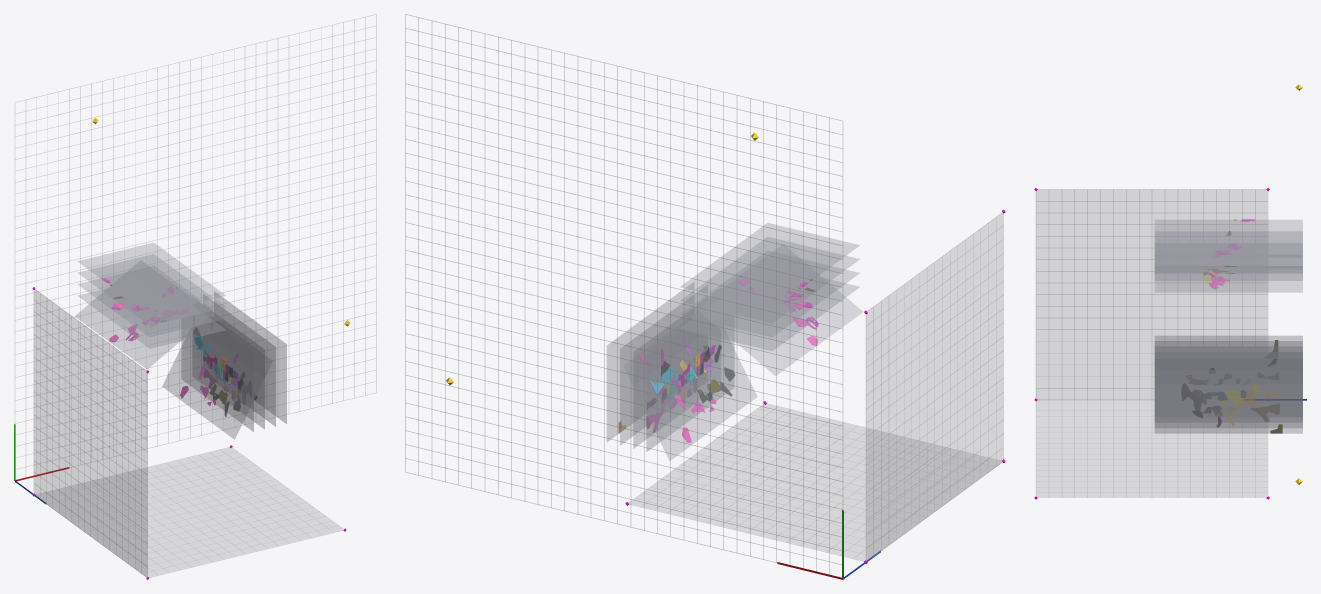
Rendered from shards.obj.
3 renders of one model, left to right at view 1: azimuth 30°, elevation 25°; view 2: azimuth 150°, elevation 25°; view 3: azimuth 270°, elevation 25°, orthographic. The views are drawn at different scales.
Parts seen in each view (by area): view 1: wall_A, wall_B, grid_floor, panel_D0, panel_B3, panel_B2, panel_A0, panel_D1, panel_A3, panel_B1, panel_B0, panel_A1 (+5 smaller); view 2: wall_A, wall_B, grid_floor, panel_D0, panel_B3, panel_B2, panel_A0, panel_D1, panel_A3, panel_B1, panel_B0, panel_A1 (+5 smaller); view 3: wall_A, wall_B, panel_A3, panel_A2, panel_B3, panel_B2, grid_wallA, panel_B1, panel_B0, panel_A1, panel_A0, K (+4 smaller).
Part boxes in pixels (<box>): wall_A: <box>34,290,147,576</box>; wall_B: <box>36,447,343,577</box>; grid_floor: <box>15,14,376,469</box>; panel_D0: <box>162,321,272,439</box>; panel_B3: <box>77,243,225,313</box>; panel_B2: <box>78,254,225,325</box>; panel_A0: <box>181,322,253,431</box>; panel_D1: <box>75,298,212,368</box>; panel_A3: <box>214,291,286,423</box>; panel_B1: <box>78,279,225,336</box>; panel_B0: <box>78,290,225,348</box>; panel_A1: <box>206,311,264,429</box>; wall_A: <box>866,213,1003,560</box>; wall_B: <box>629,404,1001,560</box>; grid_floor: <box>405,14,842,574</box>; panel_D0: <box>623,317,757,460</box>; panel_B3: <box>680,223,859,309</box>; panel_B2: <box>680,237,859,323</box>; panel_A0: <box>646,319,734,451</box>; panel_D1: <box>695,290,862,375</box>; panel_A3: <box>607,282,694,441</box>; panel_B1: <box>680,266,859,336</box>; panel_B0: <box>680,280,859,350</box>; panel_A1: <box>633,305,703,448</box>; wall_A: <box>1036,190,1267,399</box>; wall_B: <box>1036,400,1267,497</box>; panel_A3: <box>1155,352,1302,433</box>; panel_A2: <box>1155,346,1302,427</box>; panel_B3: <box>1155,220,1302,257</box>; panel_B2: <box>1155,231,1302,268</box>; grid_wallA: <box>1036,189,1267,399</box>; panel_B1: <box>1155,257,1302,280</box>; panel_B0: <box>1155,269,1302,292</box>; panel_A1: <box>1155,341,1302,351</box>; panel_A0: <box>1155,336,1302,346</box>; K: <box>1181,219,1282,433</box>.
Bounding box in the file's own units: 3318 × 3318 × 2115.
